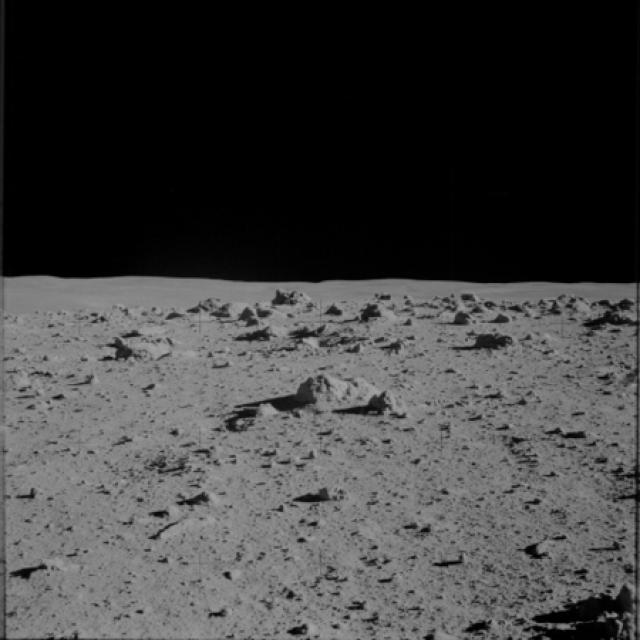rock: (295, 362, 400, 419), (154, 499, 222, 547), (85, 339, 182, 370), (347, 326, 422, 357), (180, 295, 266, 320), (469, 320, 522, 358), (292, 316, 346, 352), (573, 304, 639, 328), (27, 556, 90, 581), (266, 288, 324, 312), (237, 319, 290, 344), (354, 299, 398, 329), (21, 472, 55, 506), (246, 395, 274, 429), (316, 478, 347, 507), (192, 481, 226, 505), (448, 304, 473, 328)
